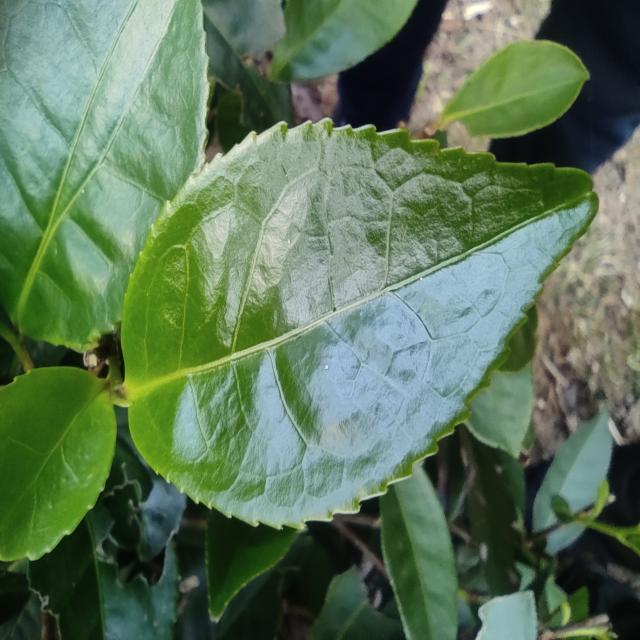Category C(4-7 days): (101, 86, 607, 580)
